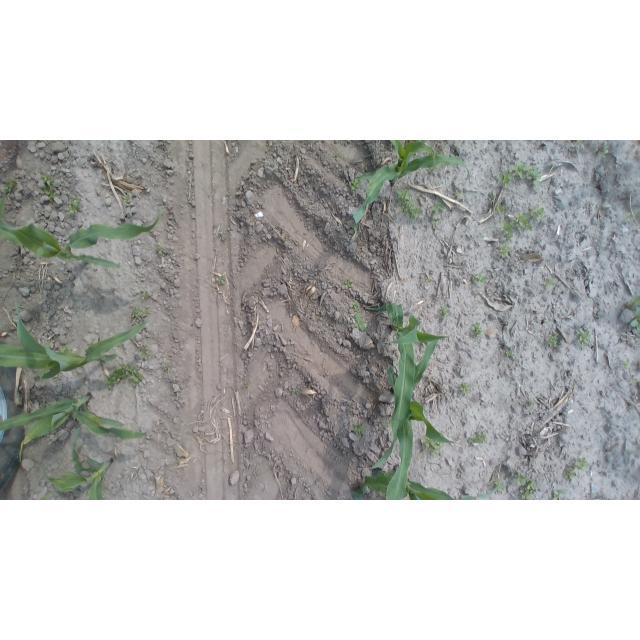Maize: (361, 301, 452, 468), (0, 185, 162, 270), (1, 296, 151, 384), (383, 336, 463, 499), (351, 141, 470, 237), (0, 394, 150, 463), (43, 424, 114, 500), (349, 468, 502, 500)
Weeds: (101, 363, 146, 390), (505, 162, 544, 188), (500, 213, 537, 240), (394, 187, 422, 219), (38, 174, 61, 203), (563, 458, 587, 482), (517, 475, 540, 497), (422, 436, 443, 458), (352, 312, 368, 333), (576, 328, 592, 349), (514, 472, 535, 488), (2, 177, 19, 196), (65, 197, 80, 218), (518, 485, 539, 500), (469, 430, 488, 446), (130, 304, 151, 318), (531, 204, 546, 220), (430, 201, 447, 215), (624, 296, 638, 313), (137, 344, 151, 361), (496, 172, 510, 189), (491, 198, 507, 212), (348, 177, 362, 192), (473, 273, 488, 287), (470, 323, 483, 339), (457, 381, 471, 395), (492, 480, 507, 493), (439, 305, 452, 320), (549, 489, 568, 499), (354, 423, 367, 437), (499, 245, 512, 258), (543, 278, 557, 290), (630, 314, 639, 332), (548, 334, 560, 347), (350, 300, 361, 313), (155, 246, 166, 259), (290, 387, 302, 398), (218, 231, 230, 242), (626, 212, 637, 223), (216, 276, 227, 287), (453, 188, 463, 200), (343, 278, 353, 290), (141, 290, 151, 302), (122, 193, 132, 204), (504, 349, 514, 359), (331, 150, 341, 160), (601, 145, 610, 156), (163, 364, 174, 373), (526, 400, 536, 409), (621, 360, 630, 370), (241, 381, 250, 390), (424, 276, 433, 284), (630, 378, 638, 387)
